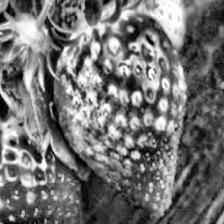Powdery Mildew Fruit: (51, 11, 186, 175)
